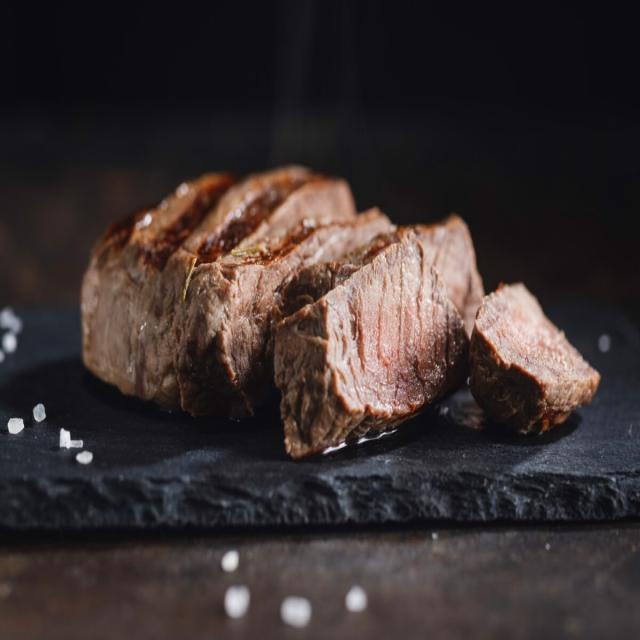carne de res: (58, 137, 602, 464)
